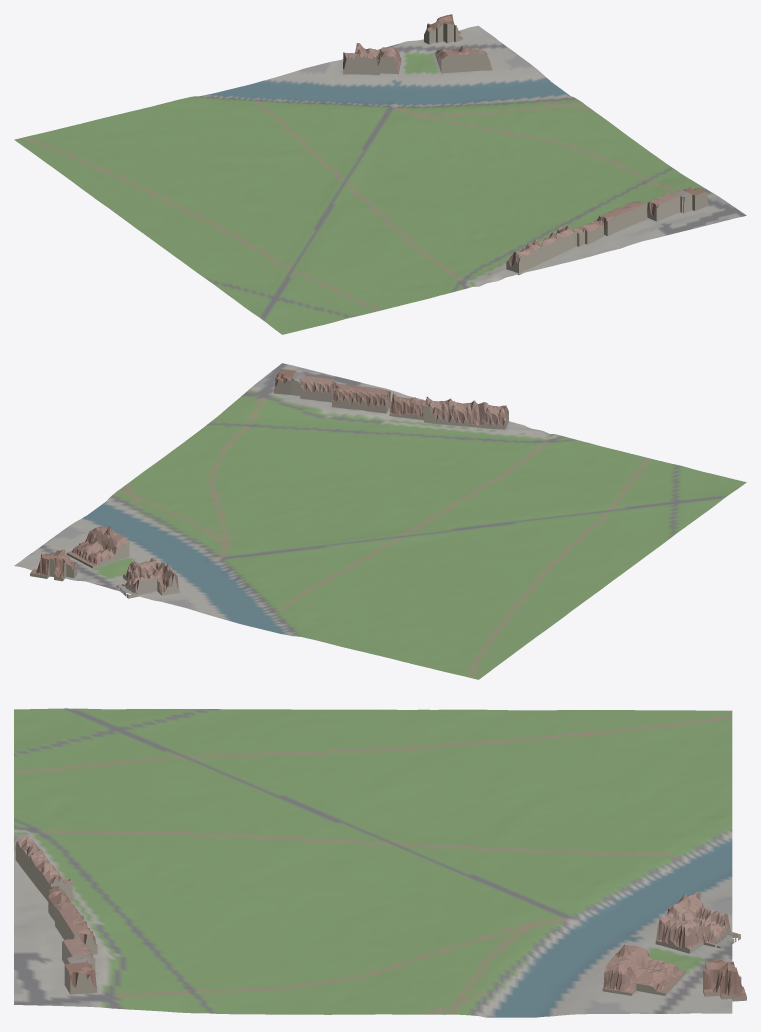
3 renders of one model, top to bottom at view 1: azimuth 30°, elevation 25°; view 2: azimuth 150°, elevation 25°; view 3: azimuth 270°, elevation 25°, orthographic. The views are drawn at different scales.
Parts seen in each view (by area): view 1: ground, b:way/158060967, b:way/13989043, b:way/13989074, b:way/158060966, b:way/93136305, b:way/158060959, b:way/158060968; view 2: ground, b:way/158060967, b:way/13989074, b:way/13989043, b:way/158060966, b:way/93136305, b:way/158060959, b:way/158060968; view 3: ground, b:way/13989043, b:way/13989074, b:way/158060967, b:way/93136305, b:way/158060966, b:way/158060963, b:way/158060959.
Boxes of the visible parts, x1,y1,x2,y2 form: ground: [14, 25, 746, 334]; b:way/158060967: [506, 226, 574, 274]; b:way/13989043: [343, 43, 401, 75]; b:way/13989074: [434, 45, 492, 73]; b:way/158060966: [596, 200, 647, 235]; b:way/93136305: [424, 14, 462, 44]; b:way/158060959: [647, 192, 680, 221]; b:way/158060968: [572, 220, 603, 246]; ground: [14, 363, 746, 679]; b:way/158060967: [424, 396, 508, 429]; b:way/13989074: [66, 526, 129, 568]; b:way/13989043: [116, 557, 179, 598]; b:way/158060966: [332, 383, 390, 413]; b:way/93136305: [30, 549, 77, 581]; b:way/158060959: [300, 375, 336, 402]; b:way/158060968: [389, 392, 425, 420]; ground: [14, 708, 732, 1017]; b:way/13989043: [655, 892, 740, 953]; b:way/13989074: [602, 944, 685, 995]; b:way/158060967: [15, 834, 72, 902]; b:way/93136305: [703, 958, 746, 1001]; b:way/158060966: [55, 902, 97, 954]; b:way/158060963: [64, 962, 96, 994]; b:way/158060959: [62, 938, 95, 969].
Bounding box in the file's own units: 250 × 14.19 × 255.
